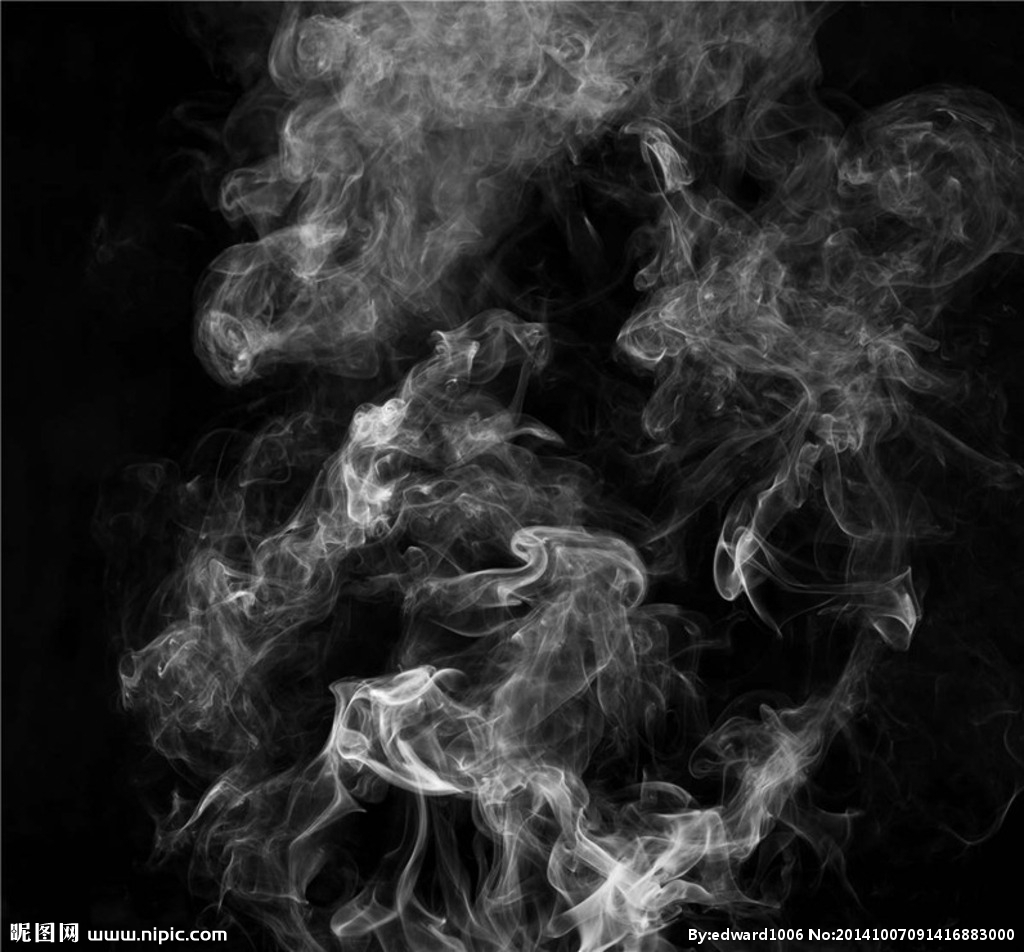smoke: (814, 64, 1011, 280), (699, 494, 941, 649), (301, 18, 575, 139), (329, 668, 515, 813), (311, 387, 444, 551), (265, 184, 409, 332), (684, 698, 832, 830), (137, 550, 259, 703), (498, 511, 619, 647), (539, 814, 674, 928), (673, 248, 800, 357)
